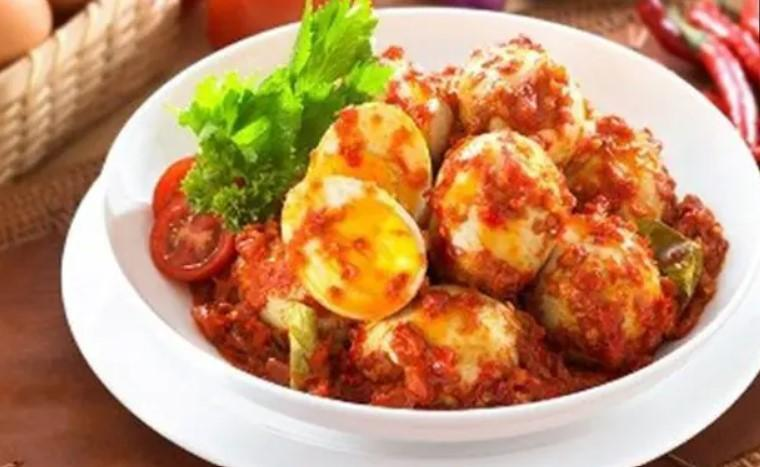buah_sayur_lainnya: (199, 83, 309, 177)
buah_sayur_vitA: (156, 173, 207, 268)
telur: (304, 145, 606, 365)
